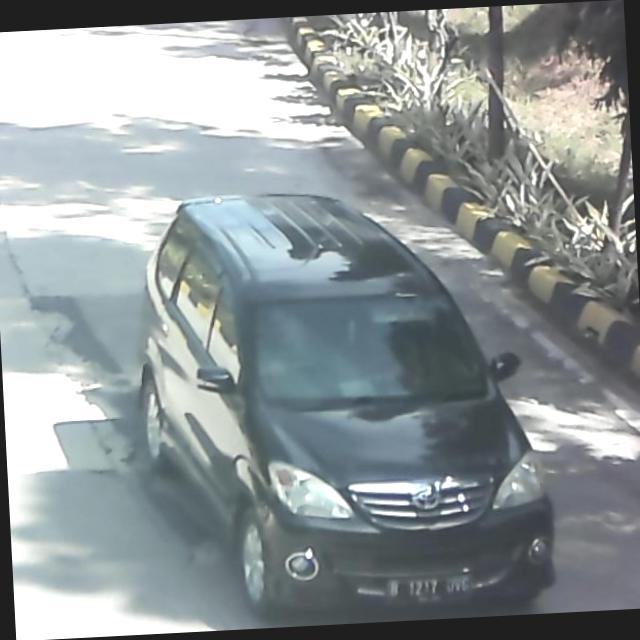plate: (384, 570, 476, 607)
